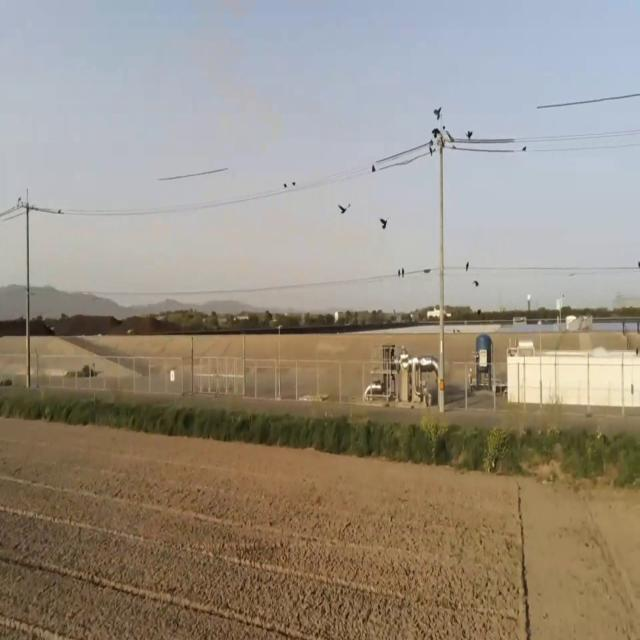bird: (431, 110, 439, 148), (337, 197, 350, 220), (434, 102, 442, 131), (430, 127, 436, 155), (380, 212, 387, 233), (467, 126, 472, 144), (522, 140, 527, 156), (637, 253, 640, 274), (474, 276, 478, 291), (372, 162, 376, 176), (284, 180, 288, 193), (466, 258, 469, 272), (400, 266, 402, 279)
